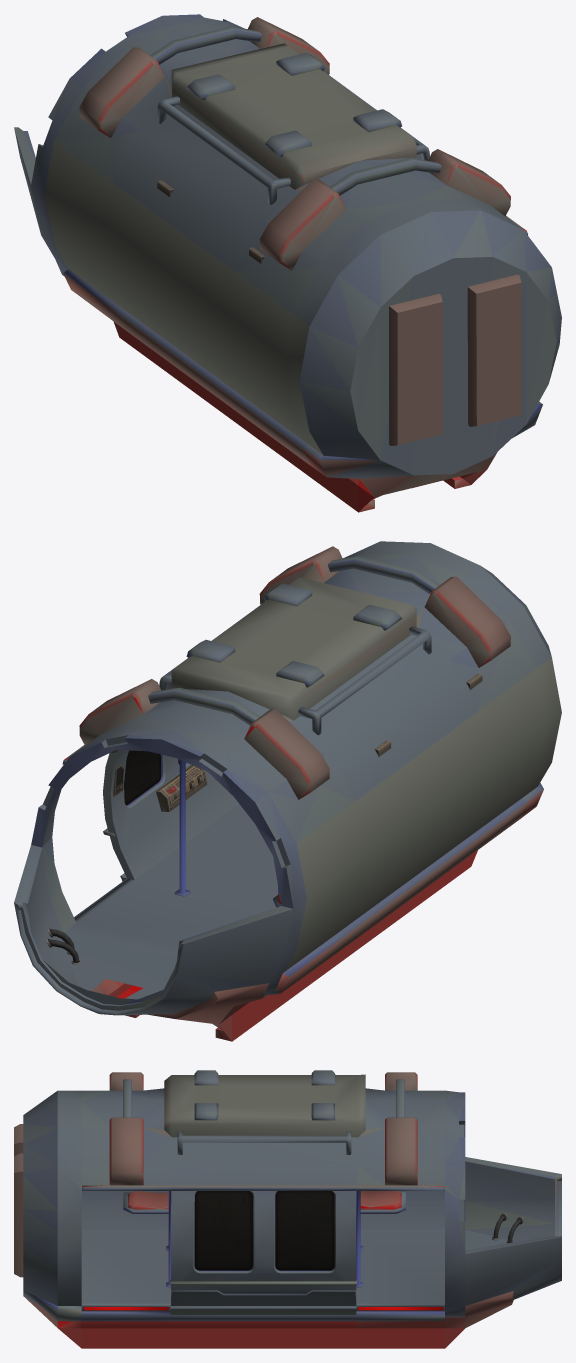
The model's file is 01_05_transporter_passenger.dae.
3 views of the same model, one above another, from view 1: azimuth 30°, elevation 25°; view 2: azimuth 150°, elevation 25°; view 3: azimuth 270°, elevation 25° (orthographic). The views are drawn at different scales.
Parts seen in each view (by area): view 1: train; view 2: train, windows, computer_parts, computer_parts_2; view 3: train, windows.
Boxes of the visible parts, <box> form: train: <box>14,14,561,512</box>; train: <box>14,541,561,1041</box>; windows: <box>124,750,179,805</box>; computer_parts: <box>156,673,482,811</box>; computer_parts_2: <box>46,750,124,964</box>; train: <box>14,1070,561,1348</box>; windows: <box>194,1191,334,1270</box>.
Bounding box in the file's own units: 4.1 × 4.65 × 9.76.
